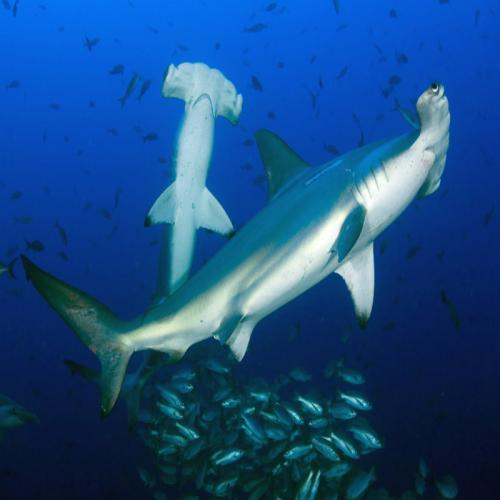shark-endangered: (19, 83, 453, 423), (145, 60, 245, 320)
